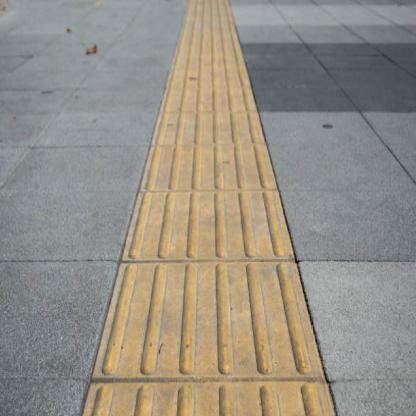podotacti: (84, 6, 333, 407)
